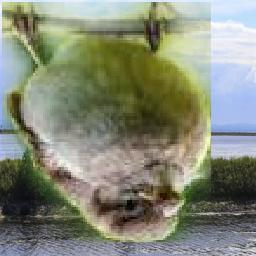Sparrow: (3, 2, 212, 242)
